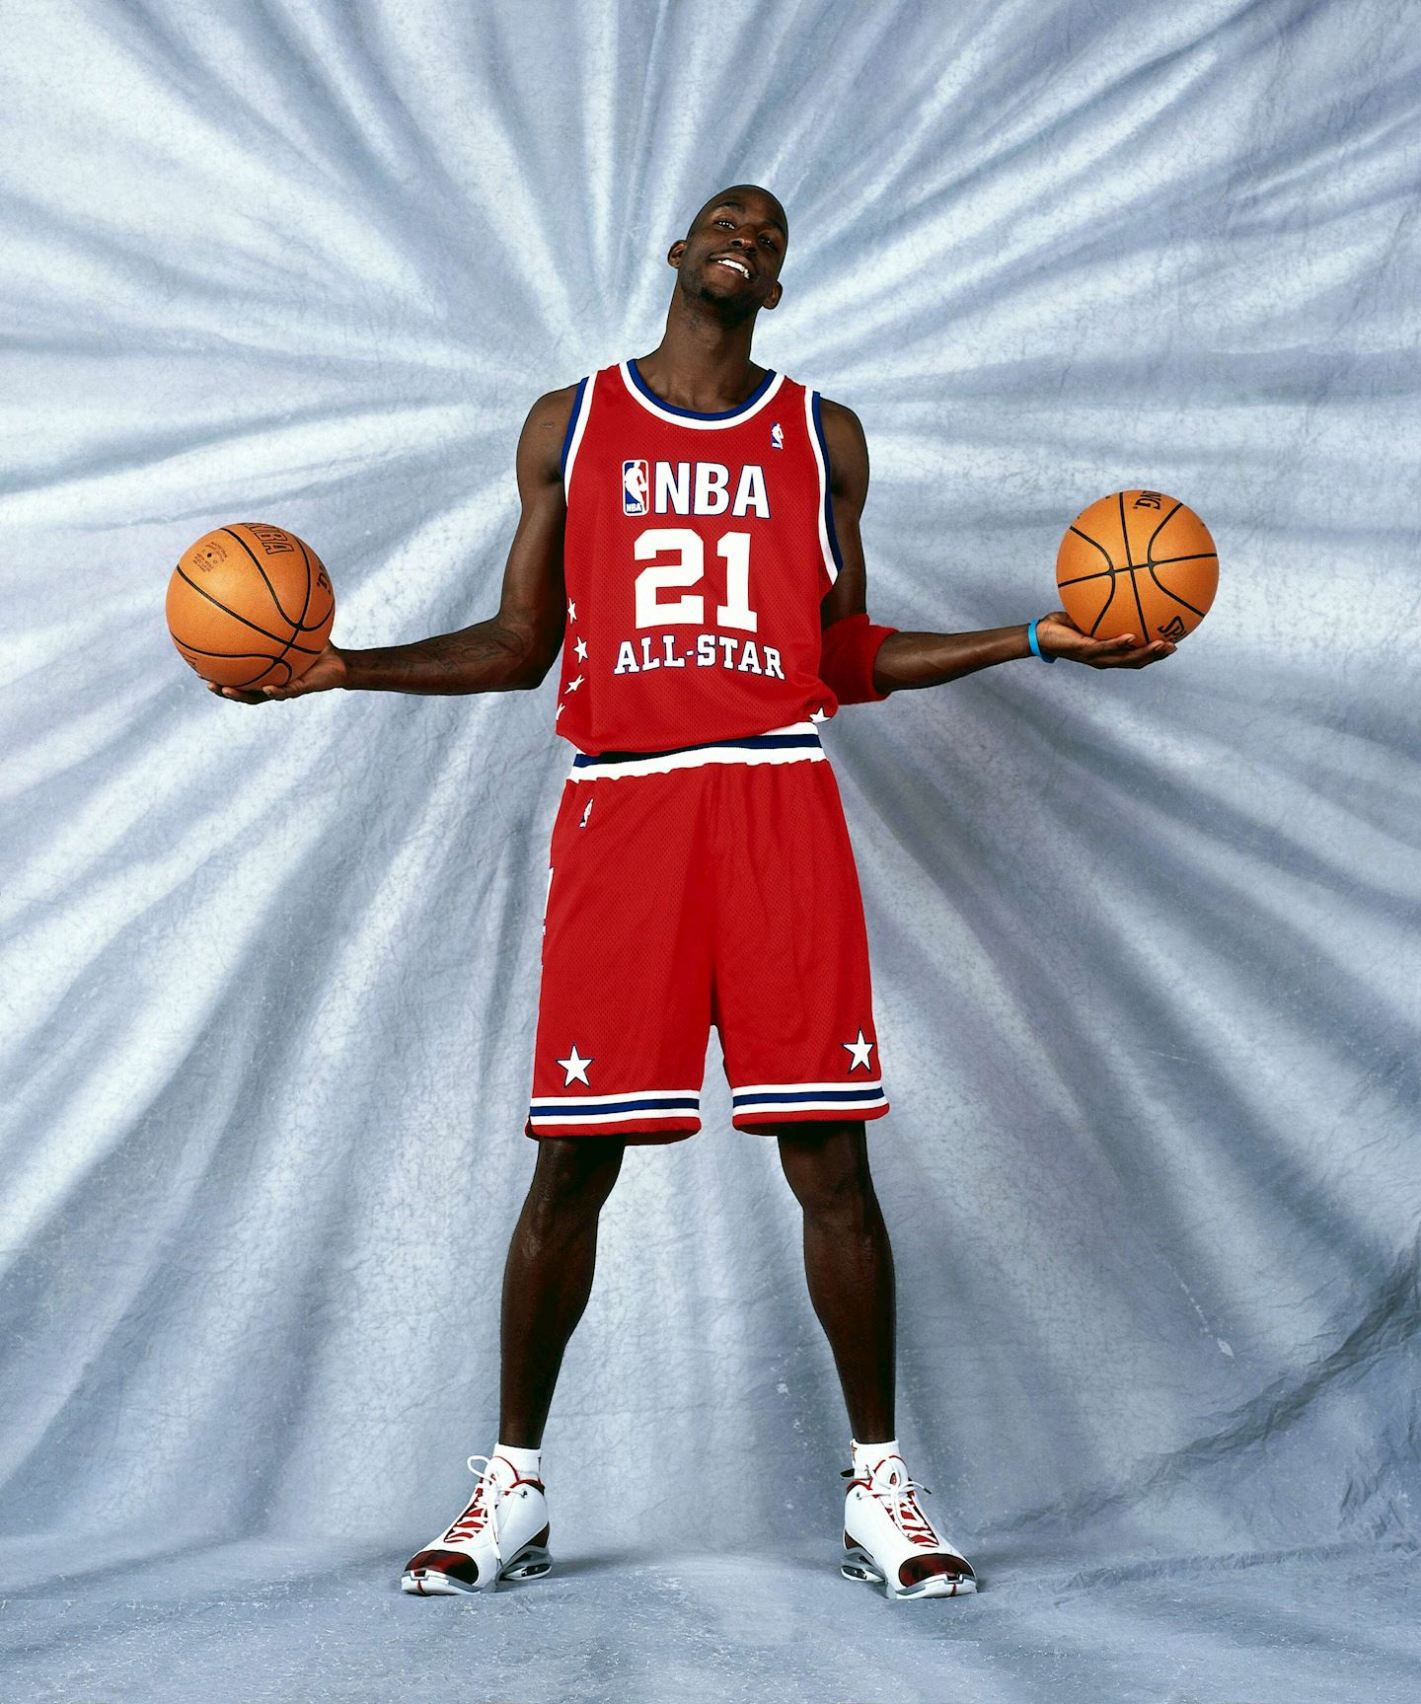ball: (164, 522, 340, 701), (1057, 485, 1220, 651)
